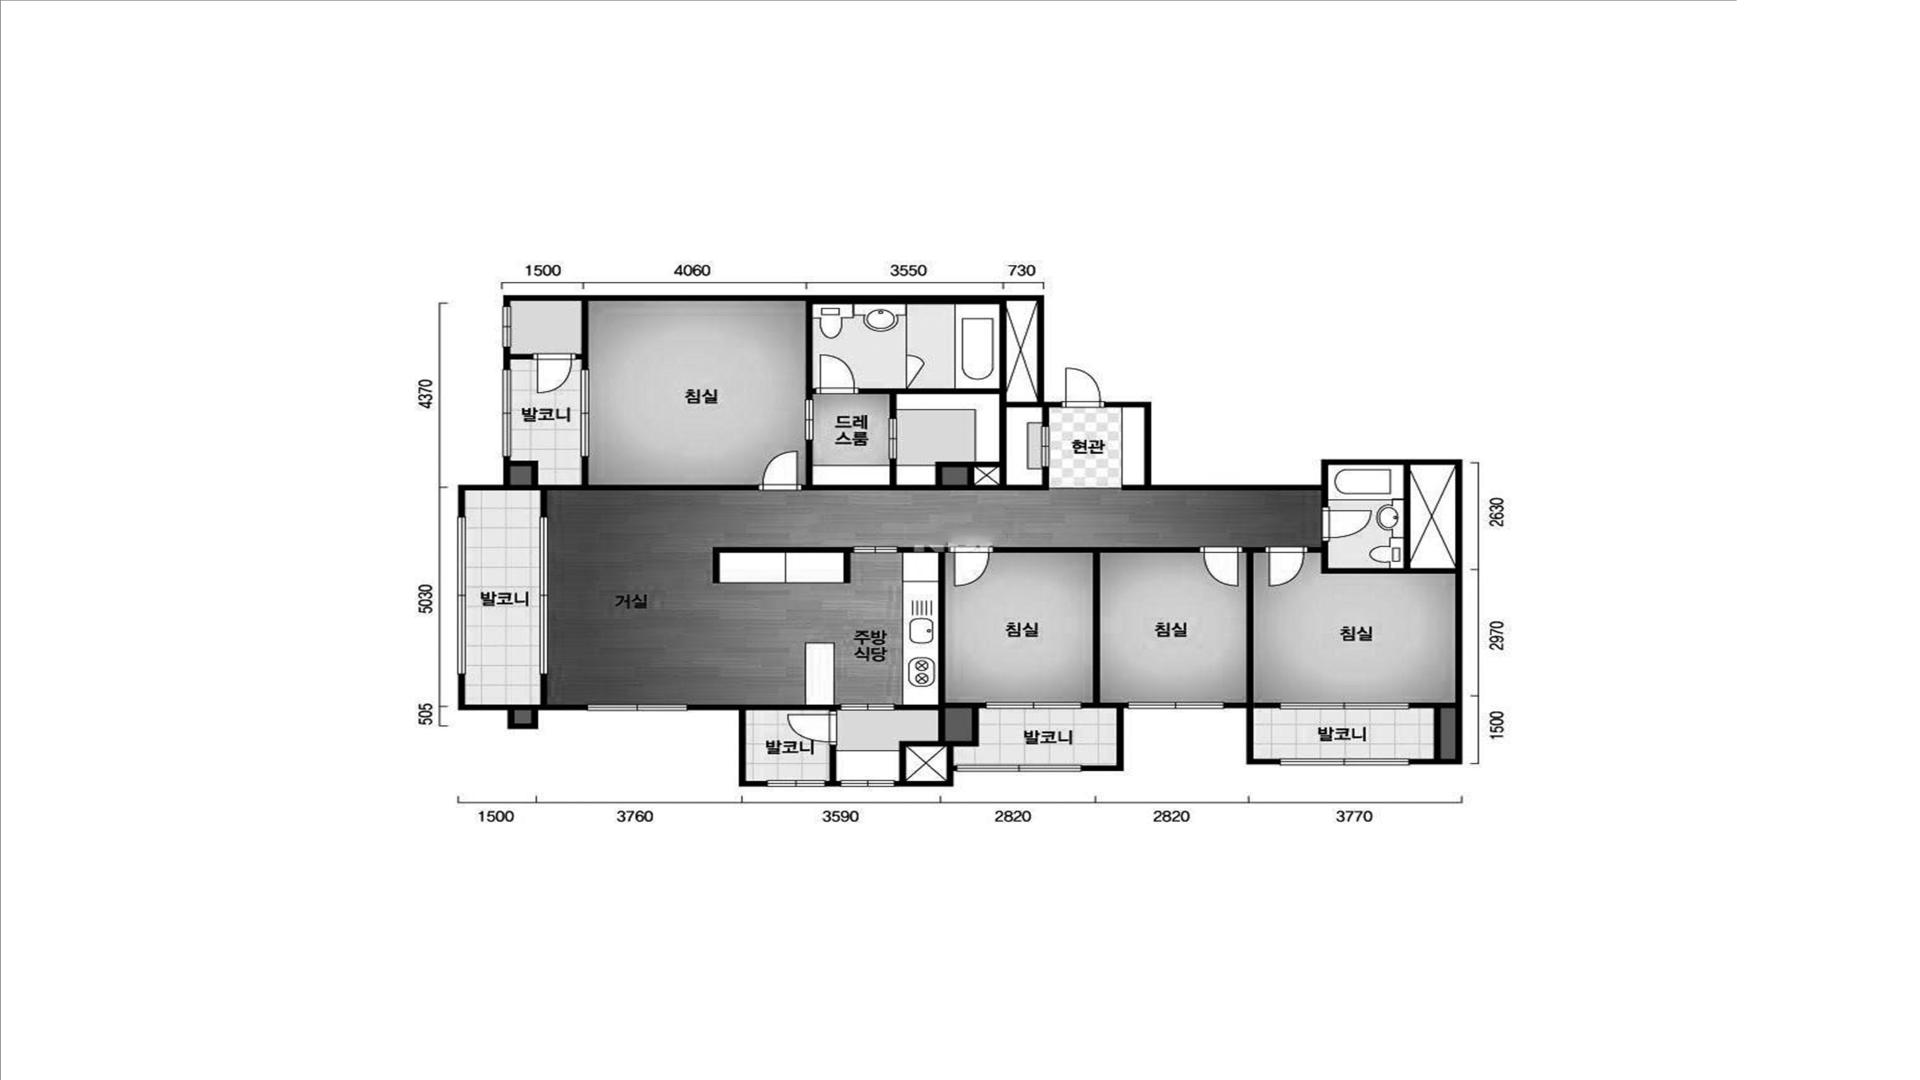door: (1265, 546, 1309, 587), (949, 546, 993, 587), (758, 450, 802, 491), (1321, 507, 1373, 541), (1200, 546, 1243, 587), (815, 354, 859, 394), (533, 353, 576, 393), (1061, 368, 1105, 407), (787, 711, 837, 745), (906, 304, 925, 388), (840, 703, 895, 711), (888, 418, 897, 460), (805, 399, 814, 441), (1041, 427, 1050, 467), (854, 546, 897, 553)
wall: (1105, 402, 1462, 764), (503, 295, 1061, 407), (802, 301, 1049, 490), (993, 547, 1200, 708), (895, 547, 986, 781), (1308, 465, 1455, 574), (510, 457, 759, 517), (687, 705, 767, 787), (712, 547, 854, 583), (458, 675, 588, 710), (1242, 547, 1265, 703), (1224, 703, 1280, 764), (458, 456, 510, 517), (1082, 703, 1128, 771), (1409, 702, 1455, 759), (895, 766, 956, 787), (945, 708, 972, 741), (576, 301, 588, 369), (746, 705, 840, 711), (829, 745, 836, 781), (540, 675, 547, 705), (1253, 703, 1280, 709), (503, 347, 510, 370), (1042, 407, 1049, 427), (1121, 485, 1144, 491), (510, 354, 533, 360), (1321, 491, 1328, 507), (825, 781, 840, 786)
window: (539, 517, 549, 675), (457, 517, 466, 675), (1280, 758, 1410, 765), (1280, 702, 1409, 709), (956, 765, 1082, 772), (580, 369, 590, 457), (502, 369, 512, 456), (587, 705, 688, 711), (1128, 702, 1224, 708), (986, 702, 1082, 708), (767, 780, 825, 787), (840, 780, 895, 787), (502, 306, 511, 347)
